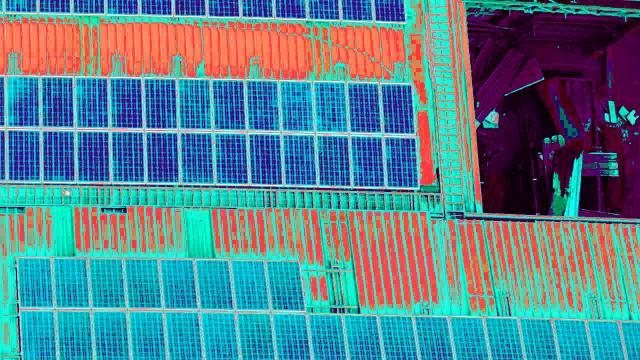dirty: (12, 255, 55, 310), (47, 256, 90, 311), (88, 258, 131, 313), (119, 258, 162, 313), (155, 256, 198, 311), (187, 258, 230, 313), (226, 258, 269, 313), (263, 255, 306, 310), (15, 305, 58, 360), (51, 305, 94, 360), (89, 305, 132, 360), (124, 305, 167, 360), (160, 305, 203, 360), (199, 305, 242, 360), (233, 305, 276, 360), (267, 305, 310, 360), (300, 305, 343, 360), (340, 305, 383, 360), (373, 305, 416, 360), (412, 305, 455, 360), (446, 305, 489, 360), (487, 305, 530, 360), (524, 305, 567, 360), (549, 305, 592, 360), (582, 305, 625, 360)
semi: (3, 75, 43, 130), (36, 76, 76, 131), (69, 76, 109, 131), (104, 76, 144, 131), (140, 76, 180, 131), (174, 75, 214, 130), (206, 80, 246, 135), (242, 79, 282, 134), (275, 79, 315, 134), (308, 79, 348, 134), (345, 82, 385, 137), (378, 82, 418, 137), (382, 134, 422, 189), (347, 134, 387, 189), (314, 133, 354, 188), (280, 133, 320, 188), (247, 133, 287, 188), (210, 131, 250, 186), (174, 127, 214, 182), (102, 131, 142, 186), (143, 130, 183, 185), (73, 128, 113, 183), (35, 131, 75, 186), (2, 129, 42, 184)
